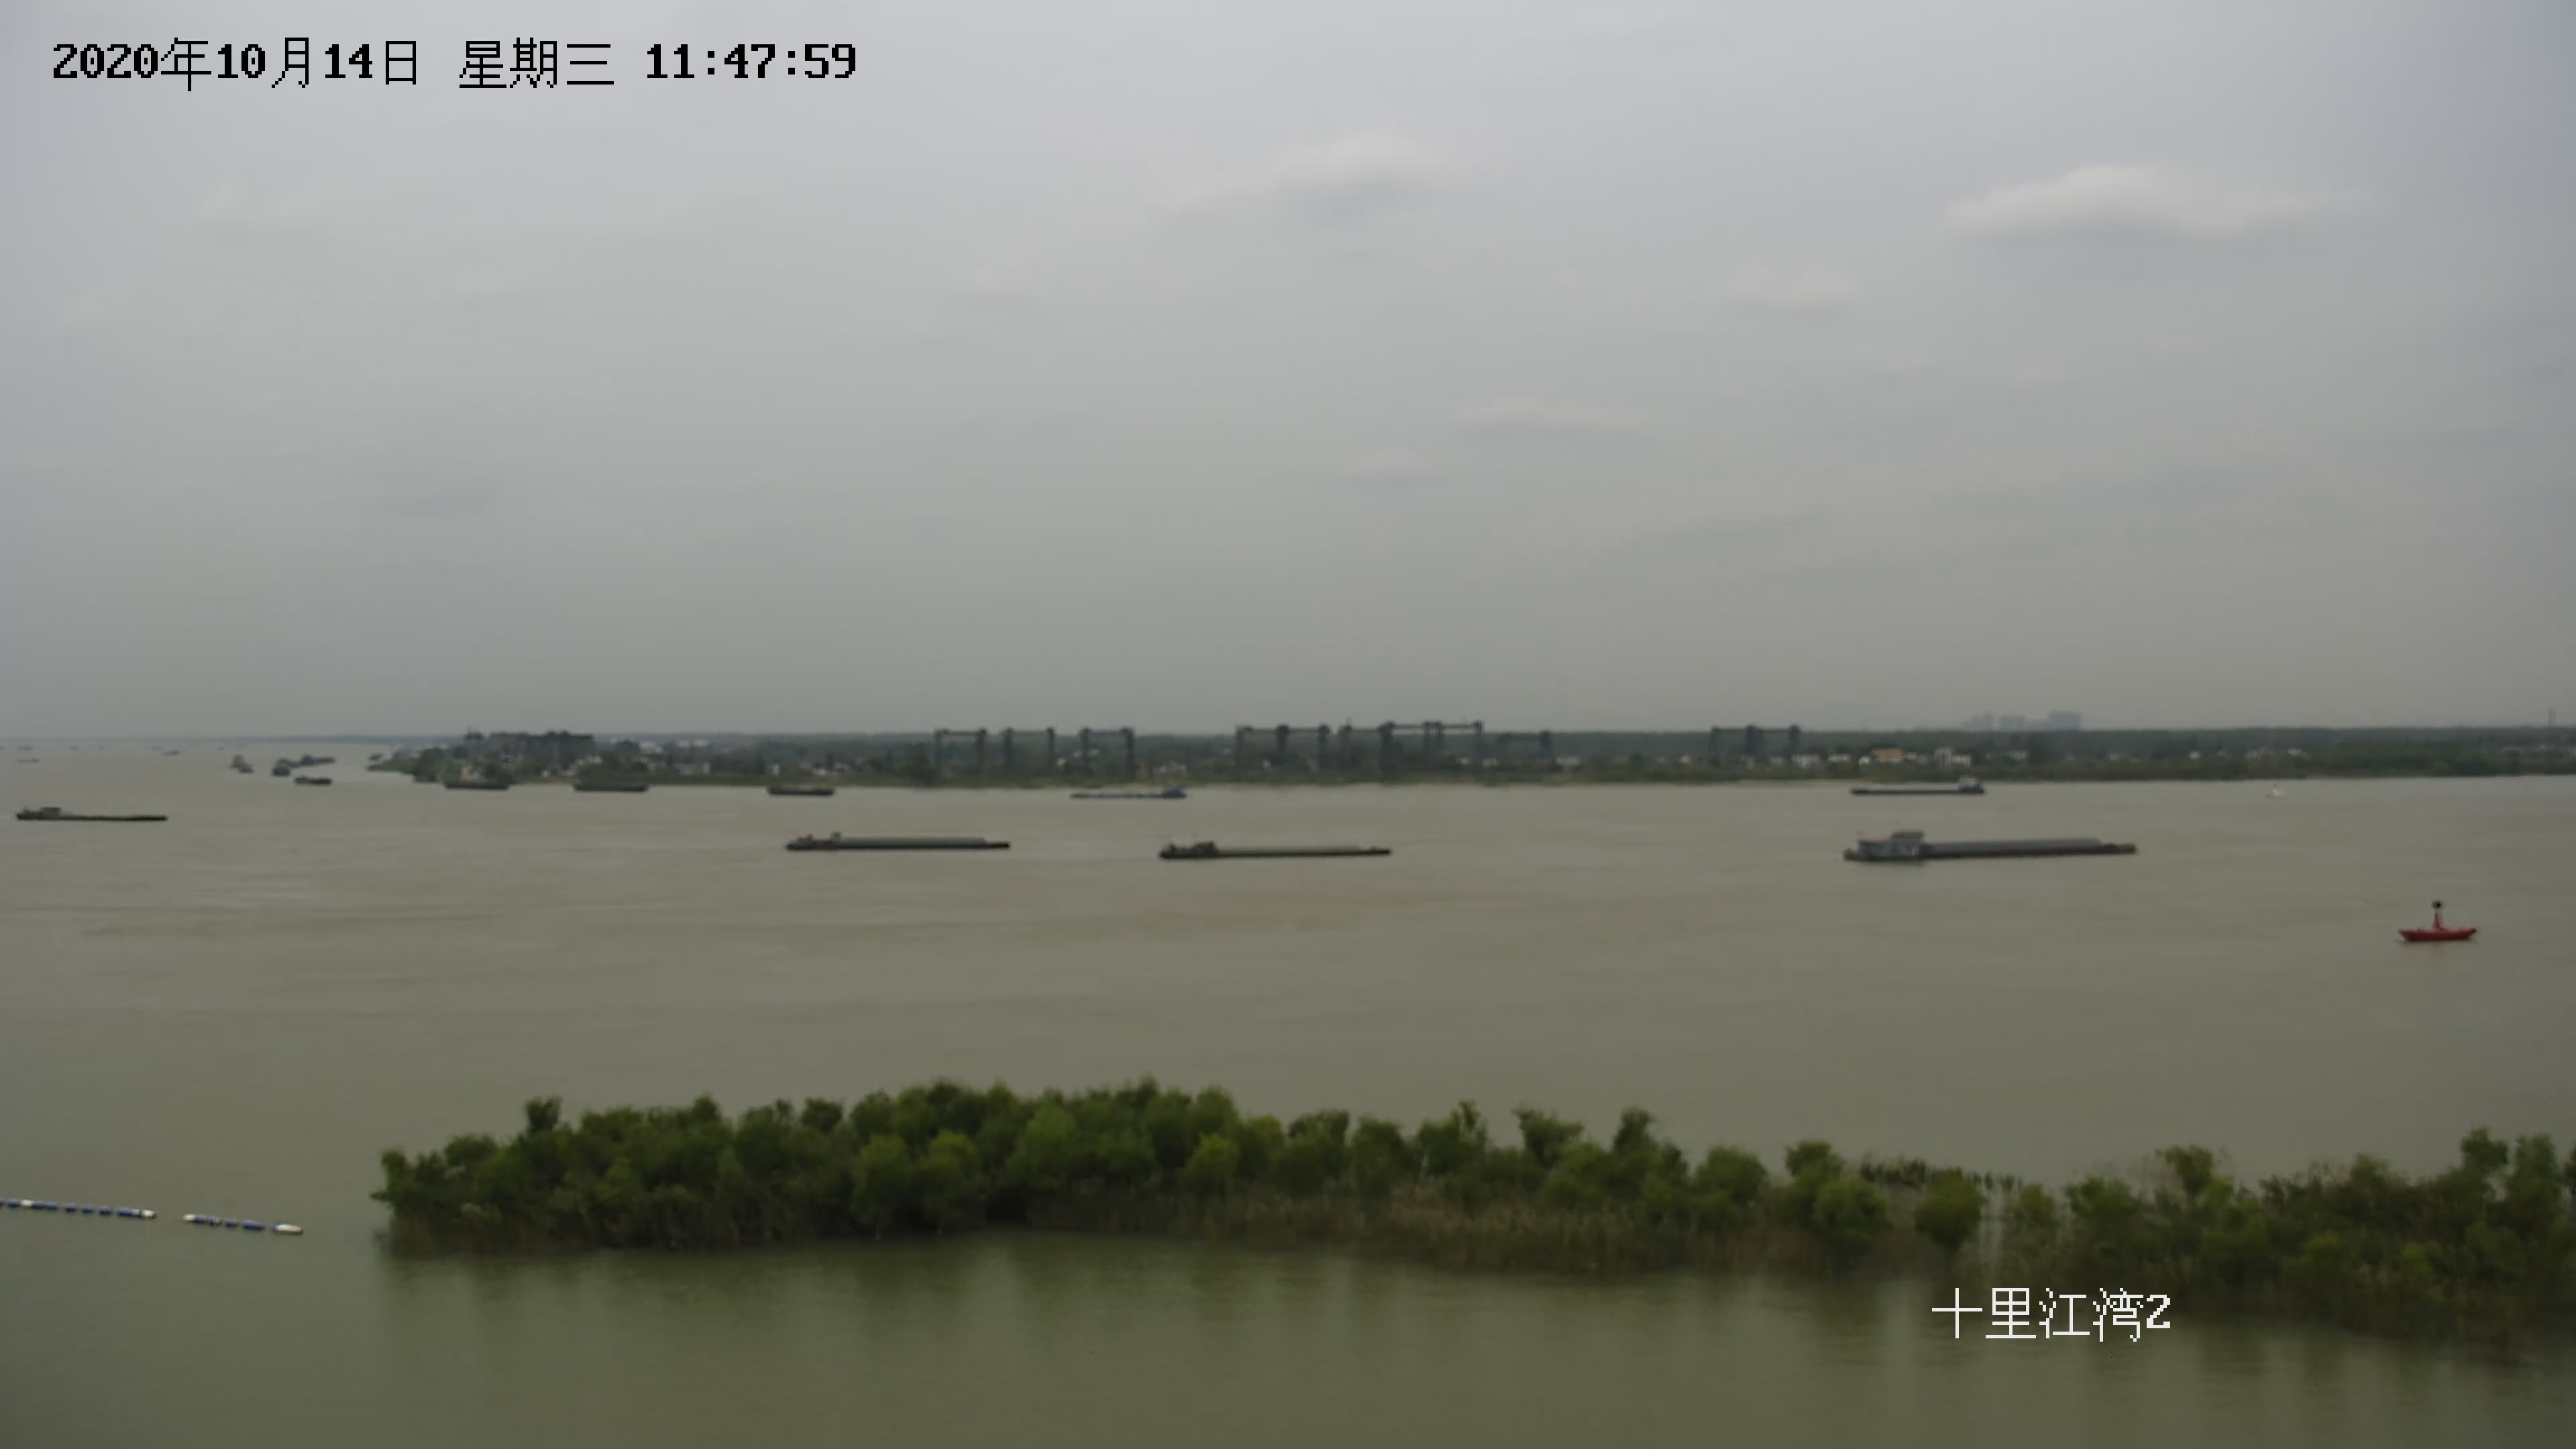boat: (1840, 828, 2139, 860), (1152, 830, 1396, 863), (778, 830, 1019, 855), (9, 801, 168, 830), (1845, 777, 1994, 805), (1065, 777, 1189, 805), (763, 777, 842, 805), (564, 777, 658, 800), (444, 770, 513, 796)
